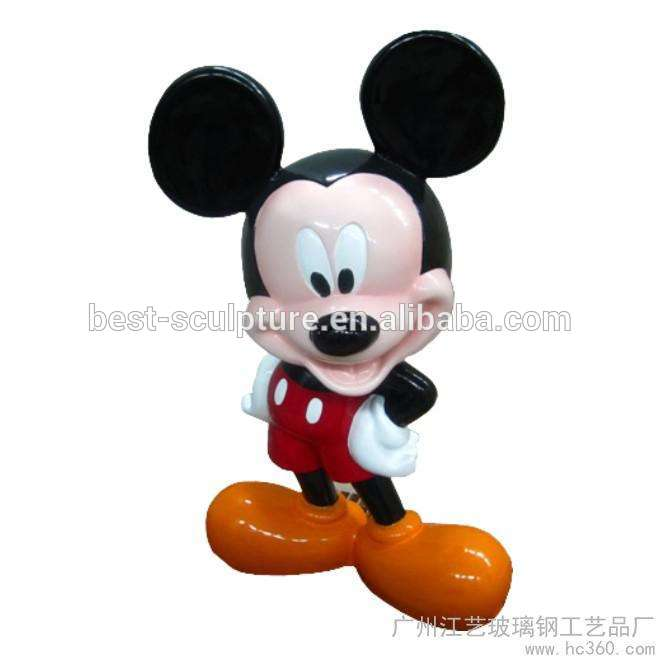Mickey: (143, 22, 506, 397)
